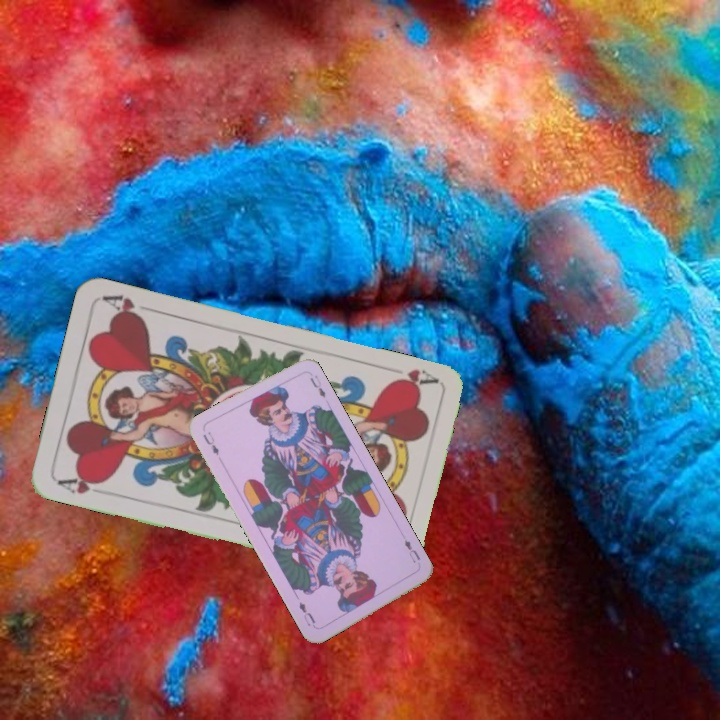EU: (199, 427, 222, 458), (400, 536, 423, 566)
HA: (381, 362, 439, 393), (53, 470, 110, 497)
